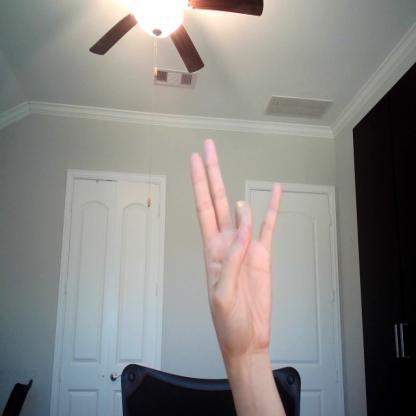seven: (189, 135, 284, 350)
